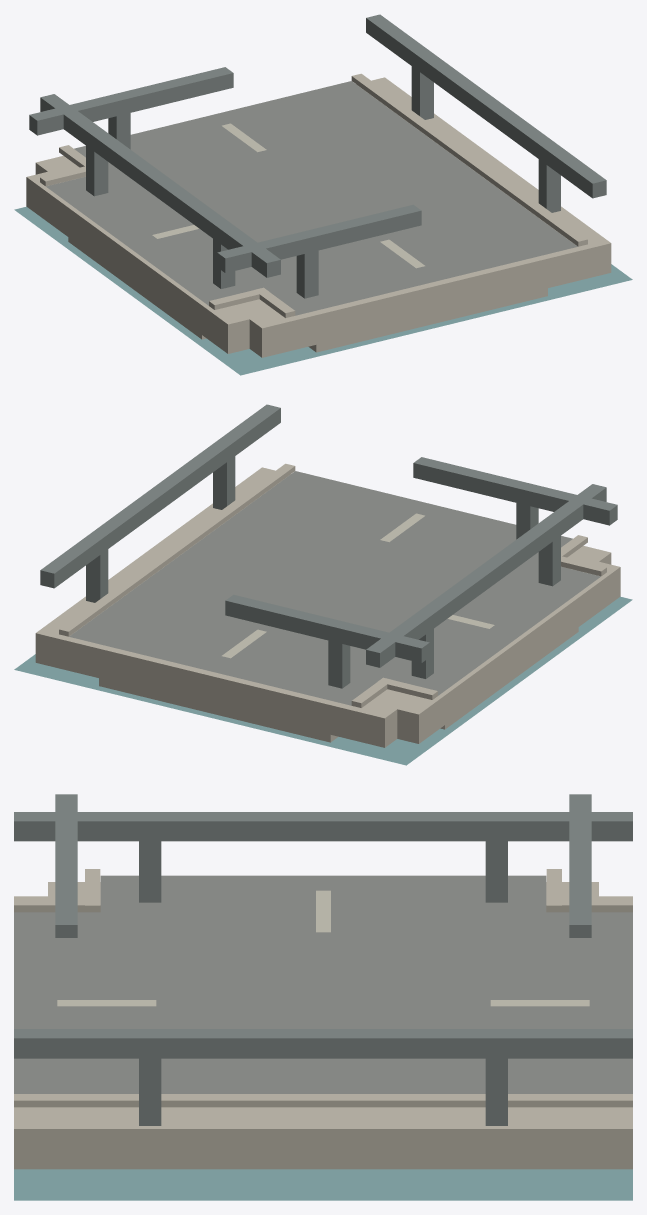
The picture shows the model from 3 angles, top to bottom: view 1: azimuth 30°, elevation 25°; view 2: azimuth 150°, elevation 25°; view 3: azimuth 270°, elevation 25°; orthographic projection. The views are drawn at different scales.
Visible parts, largest first — view 1: Near; view 2: Near; view 3: Near.
Boxes of the visible parts, box(x1,y1,x2,y2) form: Near: box(14, 14, 632, 375); Near: box(14, 404, 632, 765); Near: box(14, 794, 632, 1200).
Bounding box in the file's own units: 1 × 0.258 × 1.
